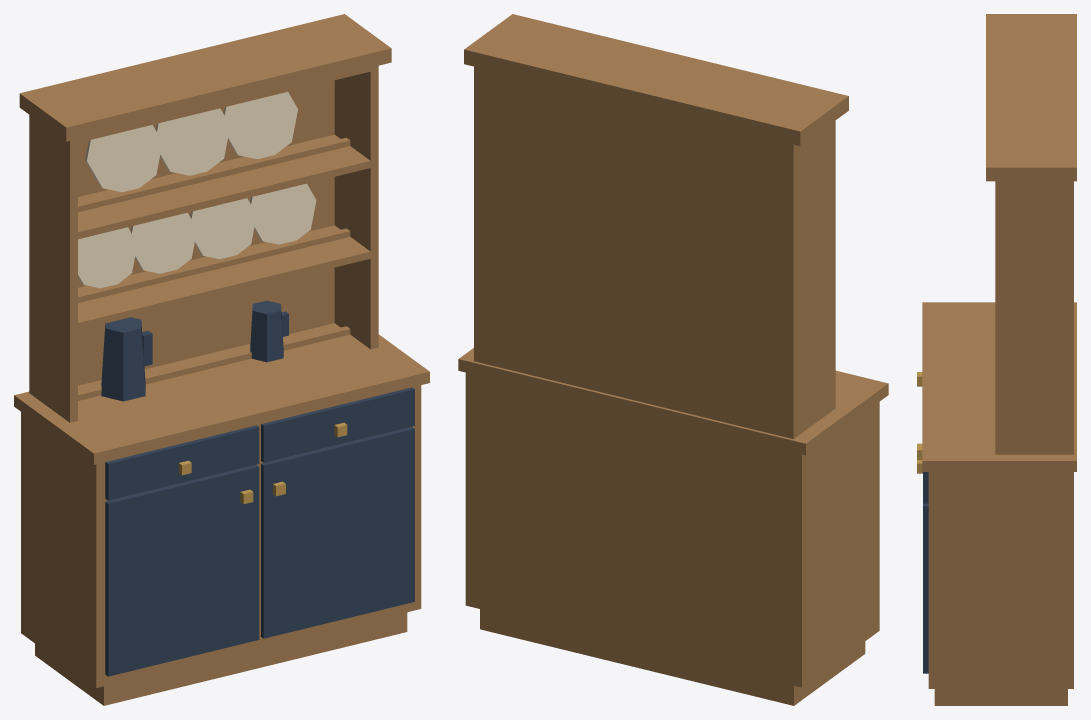
Rendered from FN_Dresser_Welsh.glb.
The picture shows the model from 3 angles, left to right: view 1: azimuth 30°, elevation 25°; view 2: azimuth 150°, elevation 25°; view 3: azimuth 270°, elevation 25°; orthographic projection. The views are drawn at different scales.
Visible parts, largest first — view 1: FN_Dresser_Welsh; view 2: FN_Dresser_Welsh; view 3: FN_Dresser_Welsh.
Part boxes in pixels (box(x1,y1,x2,y2)): FN_Dresser_Welsh: box(14, 14, 429, 705); FN_Dresser_Welsh: box(458, 14, 888, 705); FN_Dresser_Welsh: box(917, 14, 1076, 705).
Bounding box in the file's own units: 1.24 × 1.98 × 0.528.
Materials: 1 (1 with a texture image).
